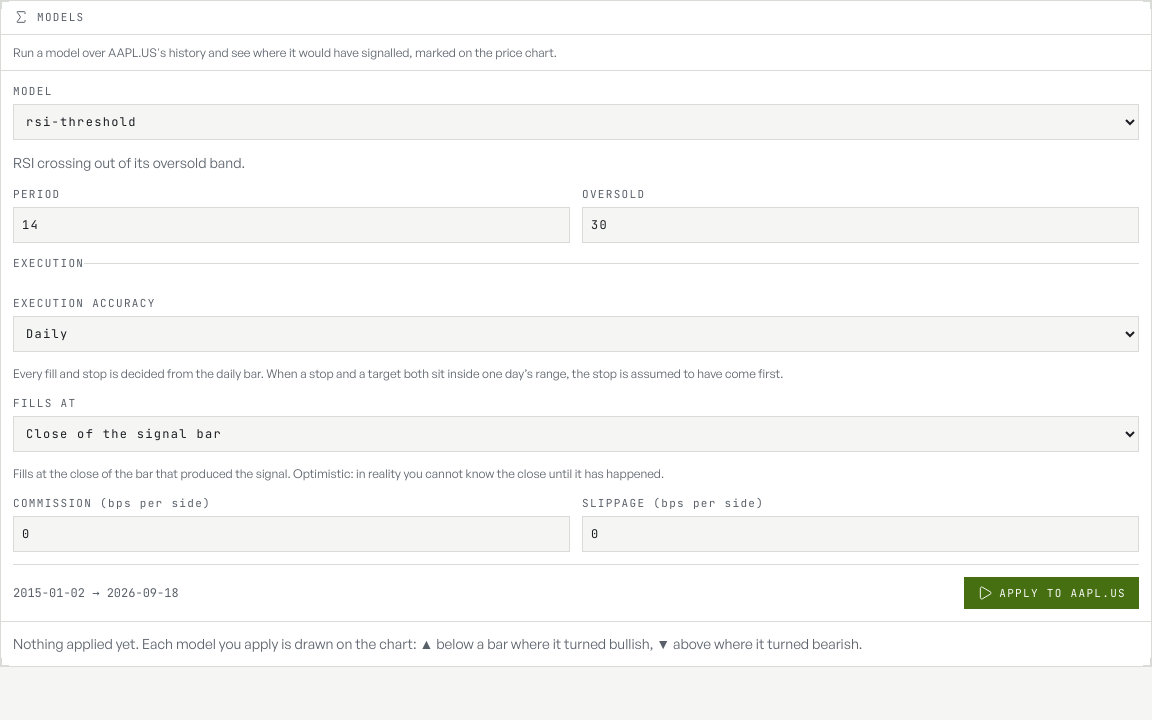
Test: ModelsPanel › will not apply a negative cost
Replace the text in the number field labelled "Commission (bps per side)" with "-3" at (292, 534), box [13, 516, 570, 552]
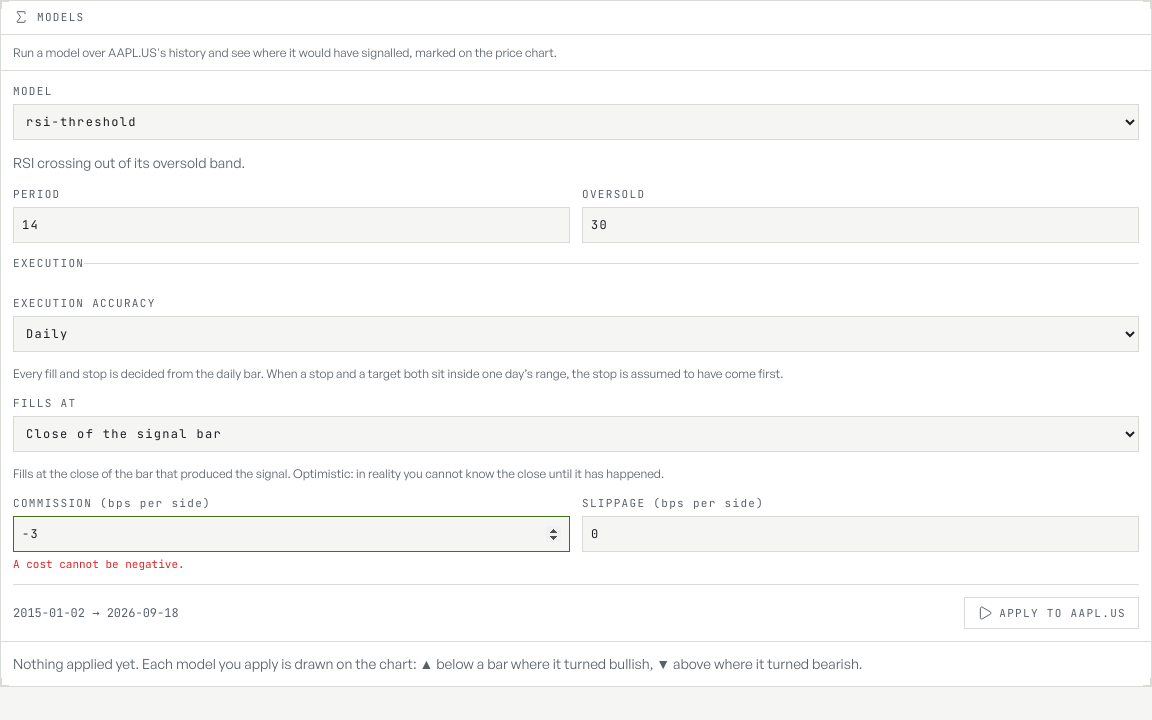
Expected: the text "A cost cannot be negative." is shown, [13, 557, 185, 571]
Expected: the button "Apply to AAPL.US" is disabled, [964, 597, 1139, 629]
